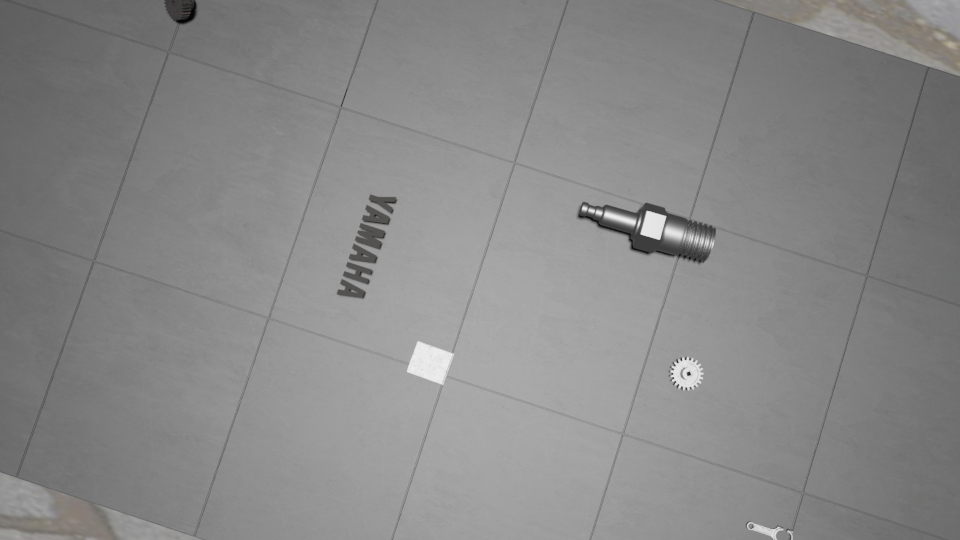yamaha_letters: (336, 193, 396, 298)
